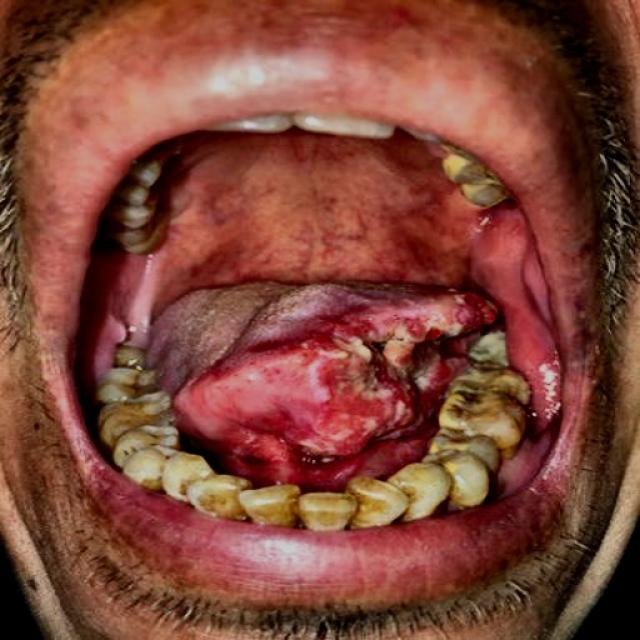cancer-detection: (137, 275, 500, 486)
processing_area: (79, 128, 566, 493)
